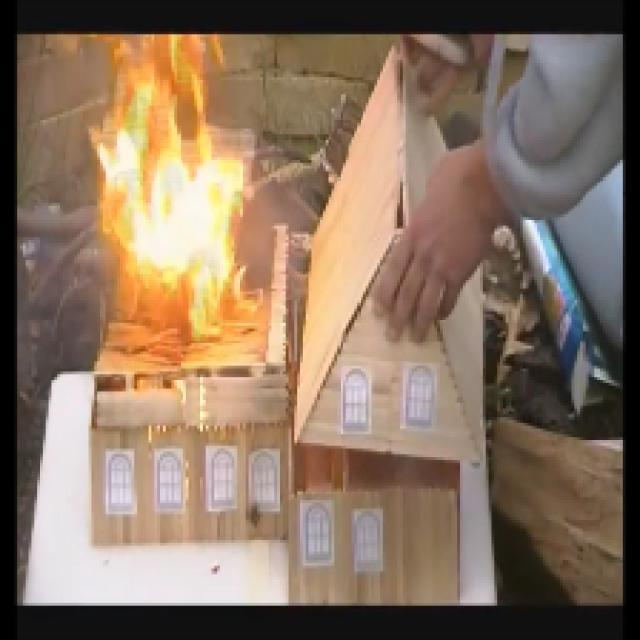Fire: (105, 46, 245, 342)
